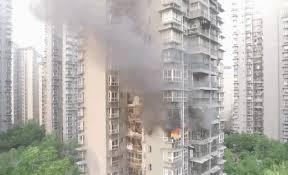fire: (168, 127, 182, 138)
